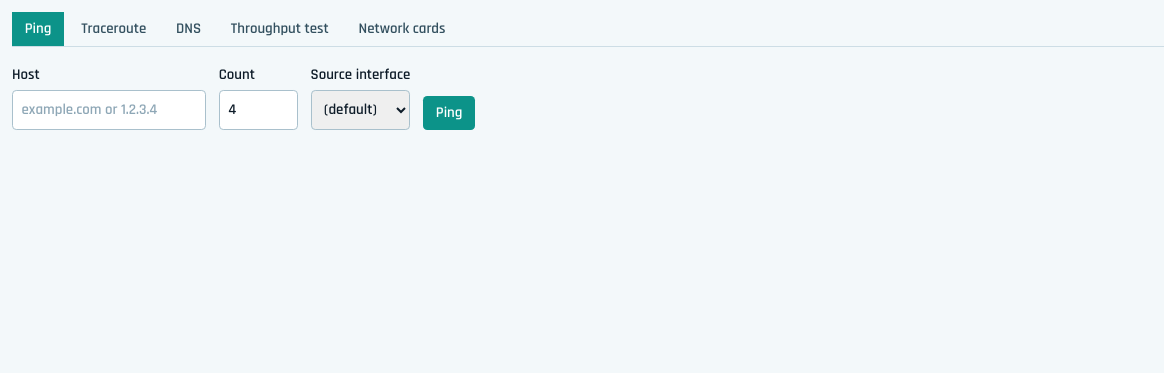
it: Throughput test › starts, shows the client commands, and stops
The image size is (1164, 373).
Click the tab "Throughput test" at (280, 29), box [218,12,342,46]
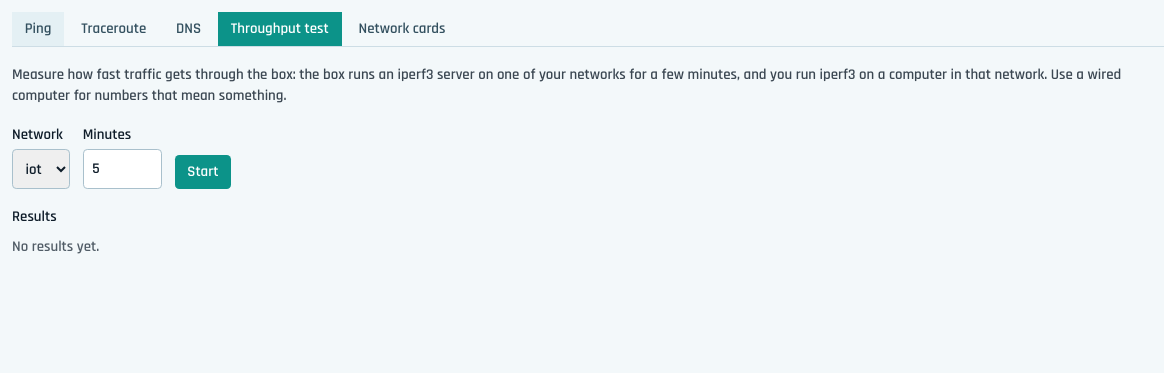
Result: the dropdown labelled "Network" shows "iot"
Select "lan" in the dropdown labelled "Network" at (41, 169), box [12,149,70,189]
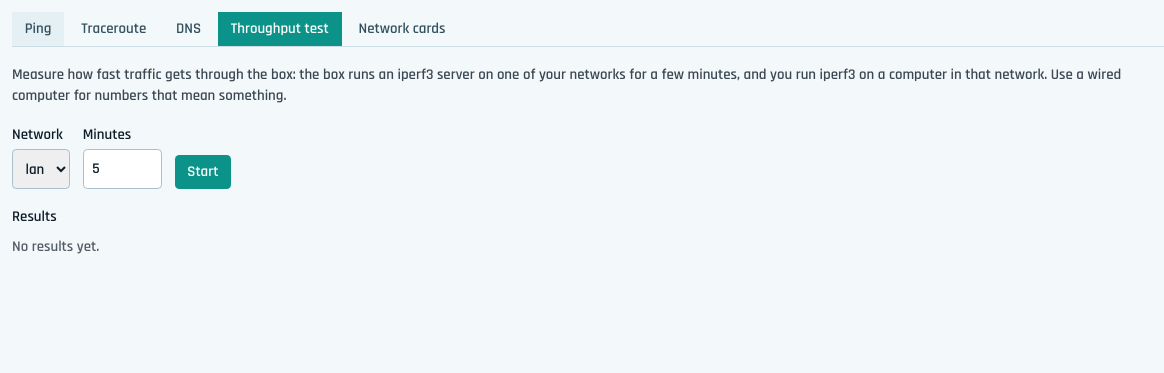
Replace the text in the number field labelled "Minutes" with "3" at (122, 169), box [83,149,162,189]
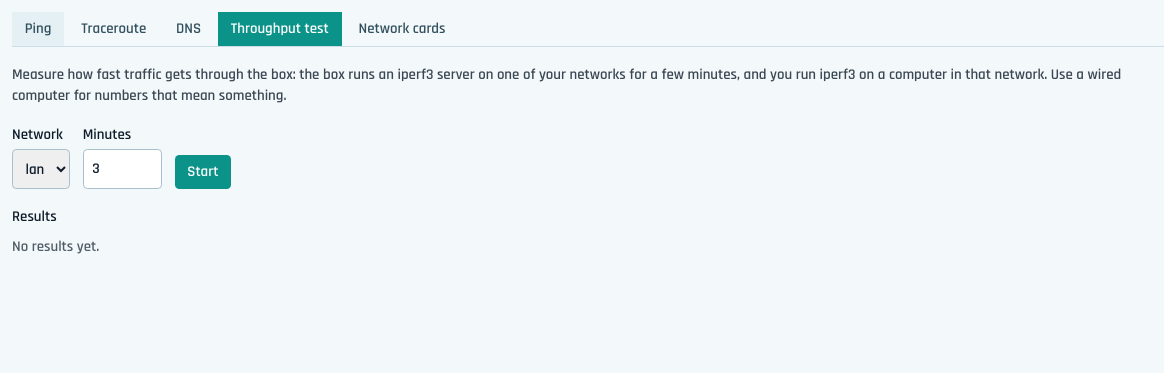
Click the button "Start" at (203, 172), box [174,155,231,189]
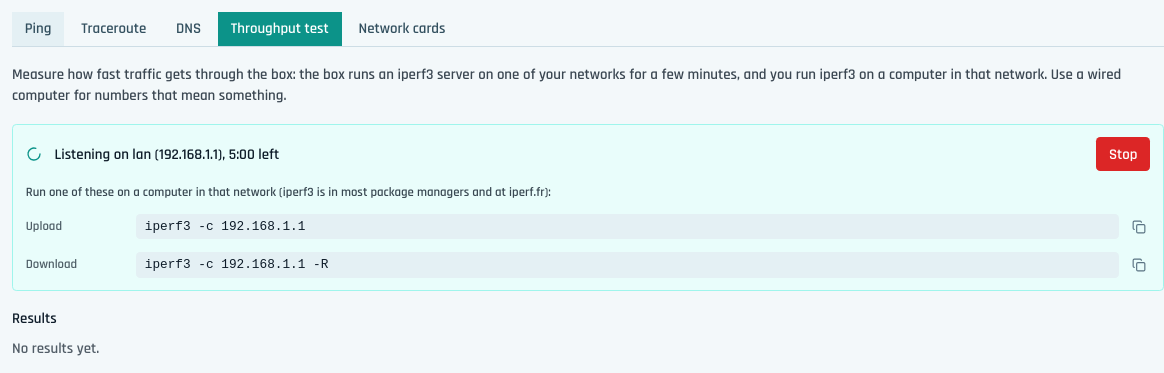
Result: the text "Listening on lan (192.168.1.1), 5:00 left" is shown at [54,144,279,165]
Result: the text "iperf3 -c 192.168.1.1" is shown at [136,214,1119,239]
Result: the text "iperf3 -c 192.168.1.1 -R" is shown at [136,252,1119,278]
Click the button "Stop" at (1123, 154), box [1096,137,1150,171]
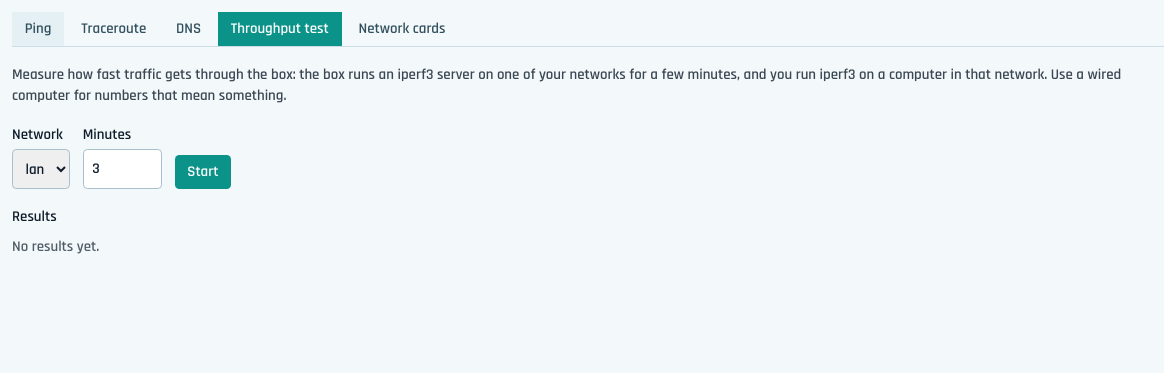
Result: the button "Start" is shown at [174,155,231,189]
